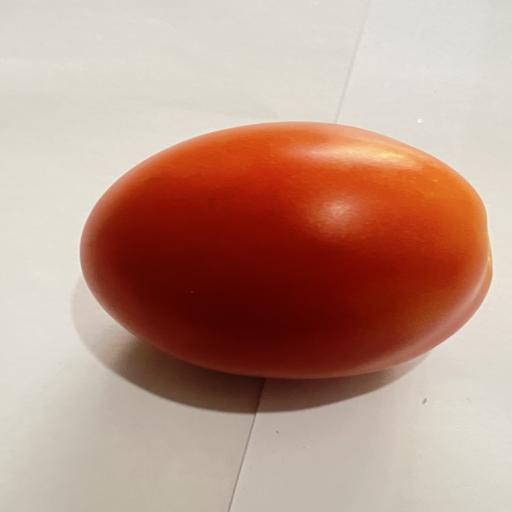ripe: (80, 122, 492, 379)
